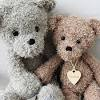teddy: (1, 1, 63, 96), (39, 12, 100, 96)
